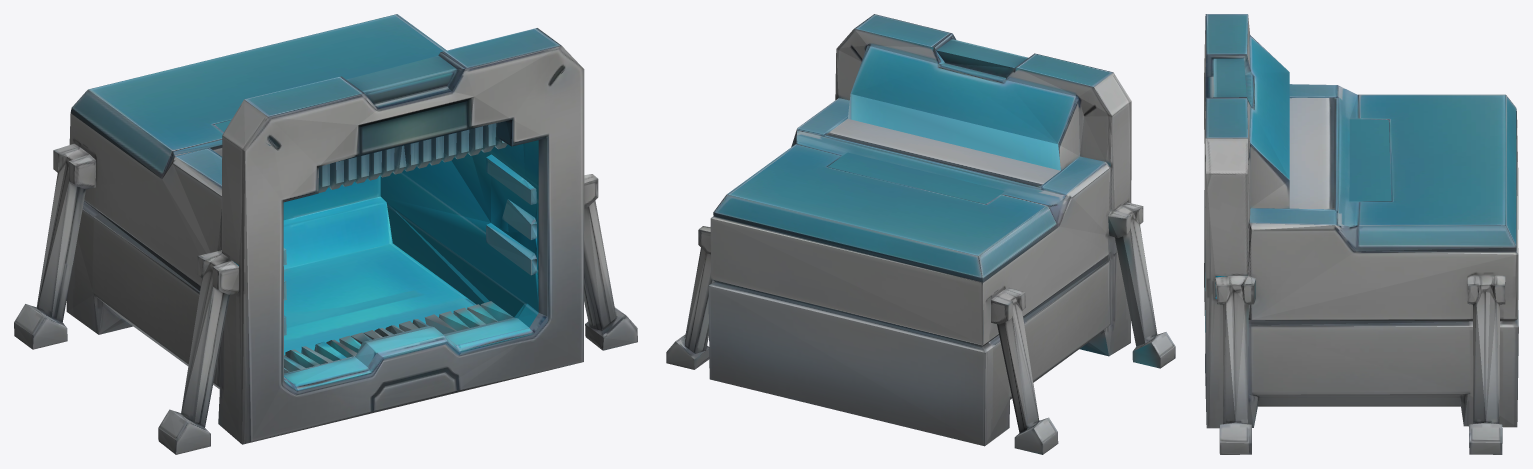
File: teleporter.glb
The picture shows the model from 3 angles, left to right: view 1: azimuth 30°, elevation 25°; view 2: azimuth 150°, elevation 25°; view 3: azimuth 270°, elevation 25°; orthographic projection. The views are drawn at different scales.
Parts seen in each view (by area): view 1: material; view 2: material; view 3: material.
Part boxes in pixels (x1,y1,x2,y2): material: (14, 14, 637, 454); material: (666, 14, 1175, 454); material: (1204, 14, 1518, 454).
Size of the model in its own units: 1.5 by 1 by 1.02.
Materials: 1 (1 with a texture image).
